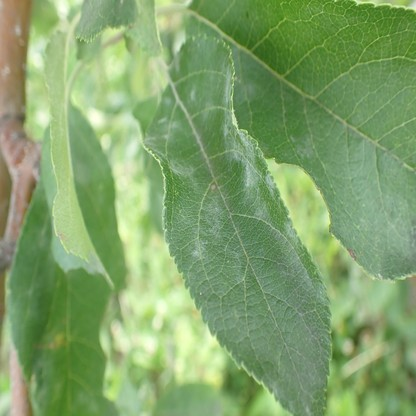frogeye_leaf_spot: (211, 183, 216, 191)
powdery_mildew: (144, 34, 329, 416), (249, 4, 415, 282), (77, 1, 133, 40)
